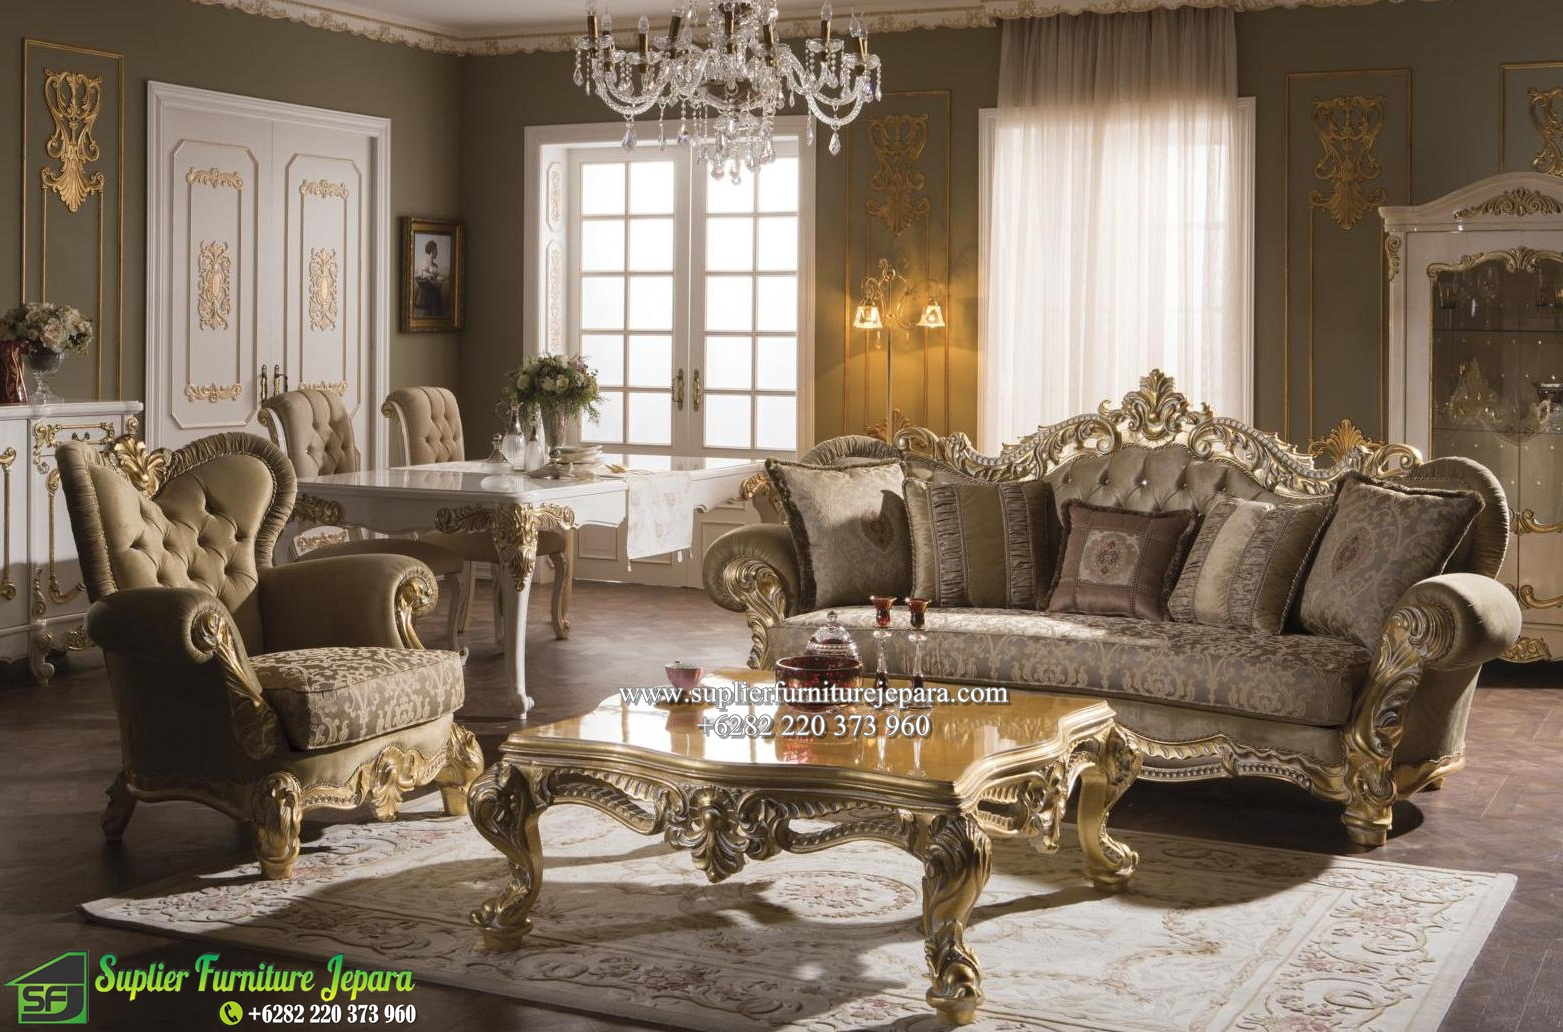Carving Chair: (730, 413, 1500, 851), (43, 433, 473, 865)
Carving Table: (481, 670, 1152, 1032)
